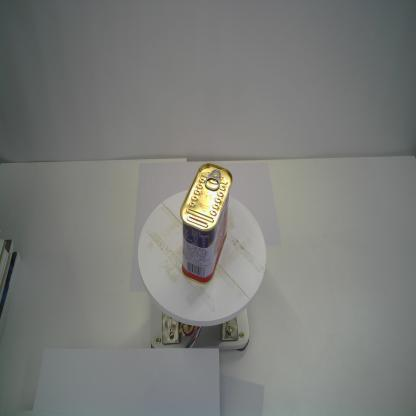Canned Food: (179, 163, 234, 285)
